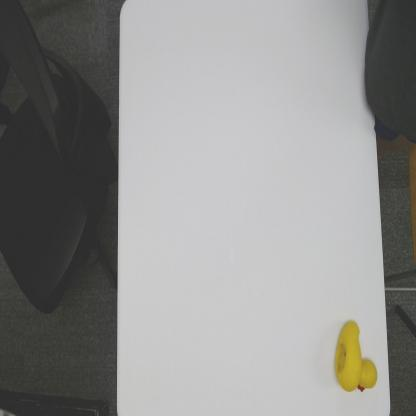Duck: (333, 316, 379, 396)
